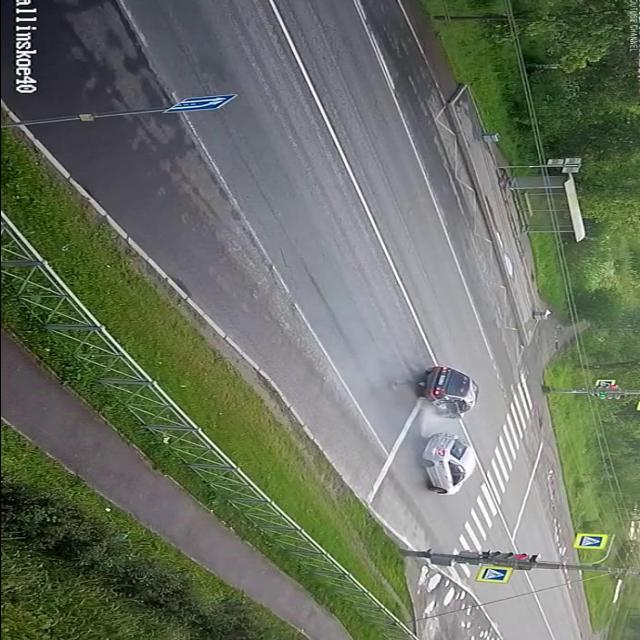accident: (395, 358, 489, 498)
